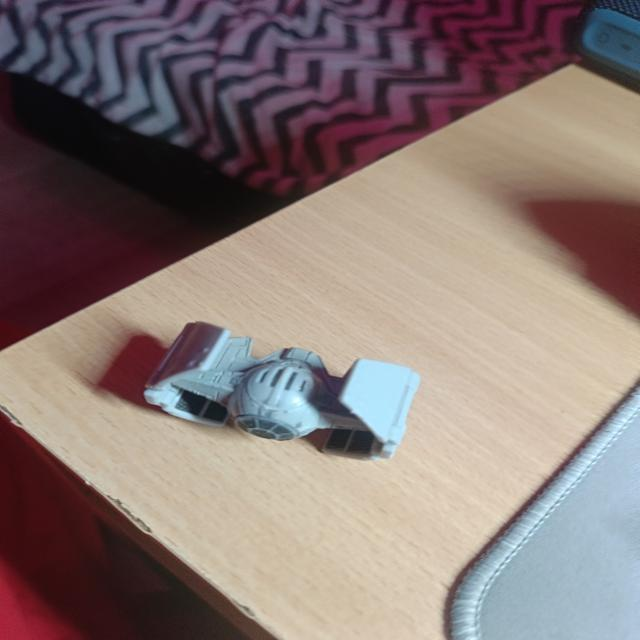tie fighter: (143, 320, 422, 462)
